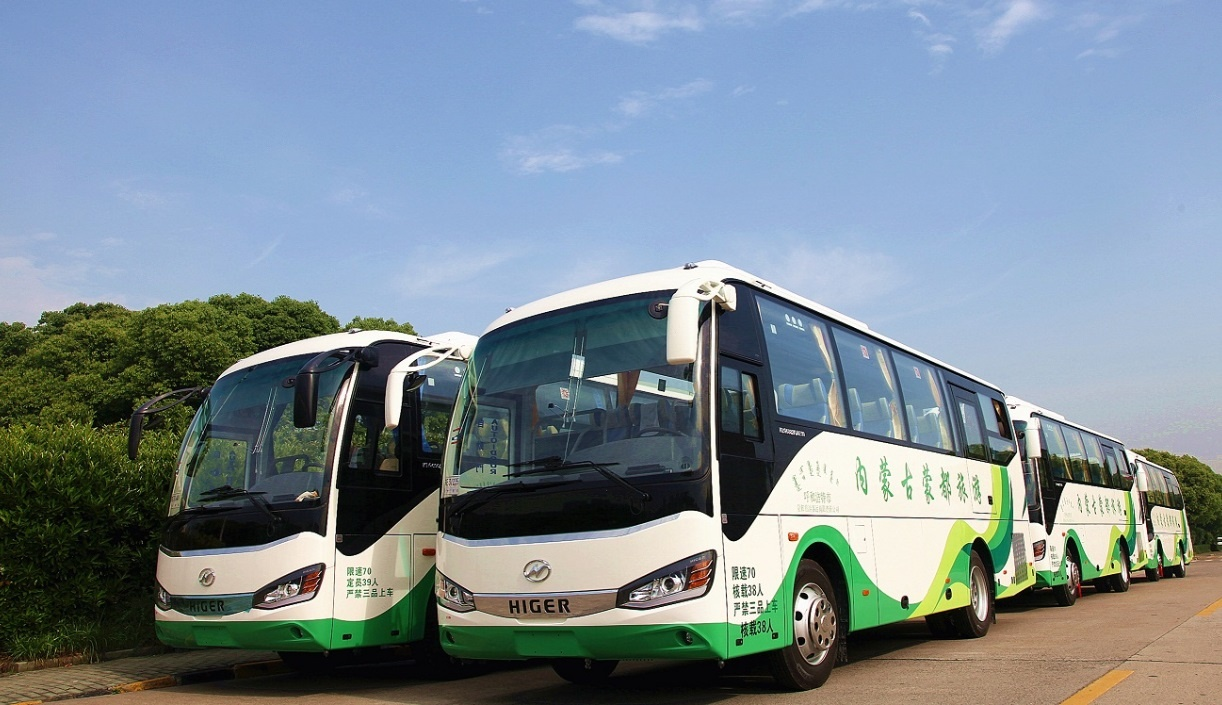bus: (401, 272, 1027, 669)
